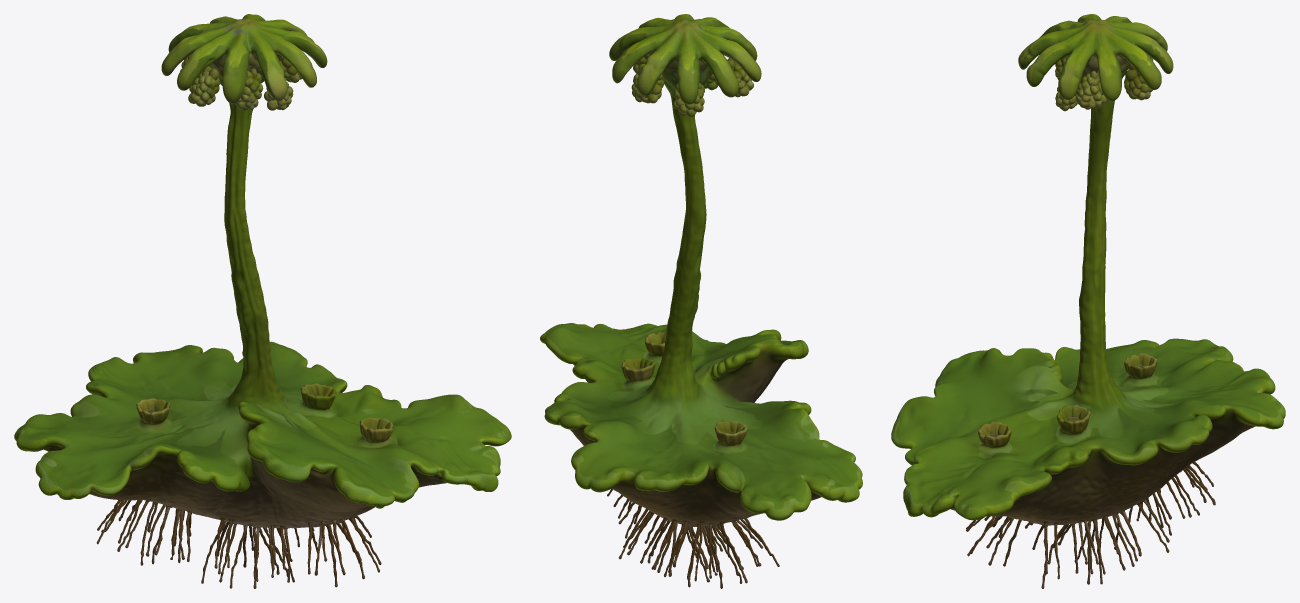
The model's file is talo.glb.
3 renders of one model, left to right at view 1: azimuth 30°, elevation 25°; view 2: azimuth 150°, elevation 25°; view 3: azimuth 270°, elevation 25°, orthographic. The views are drawn at different scales.
Visible parts, largest first — view 1: Mesh_0; view 2: Mesh_0; view 3: Mesh_0.
Part boxes in pixels (x1,y1,x2,y2): Mesh_0: (14, 14, 511, 588); Mesh_0: (540, 14, 862, 588); Mesh_0: (891, 14, 1285, 588).
Bounding box in the file's own units: 1.45 × 2 × 1.31.
Materials: 1 (1 with a texture image).
